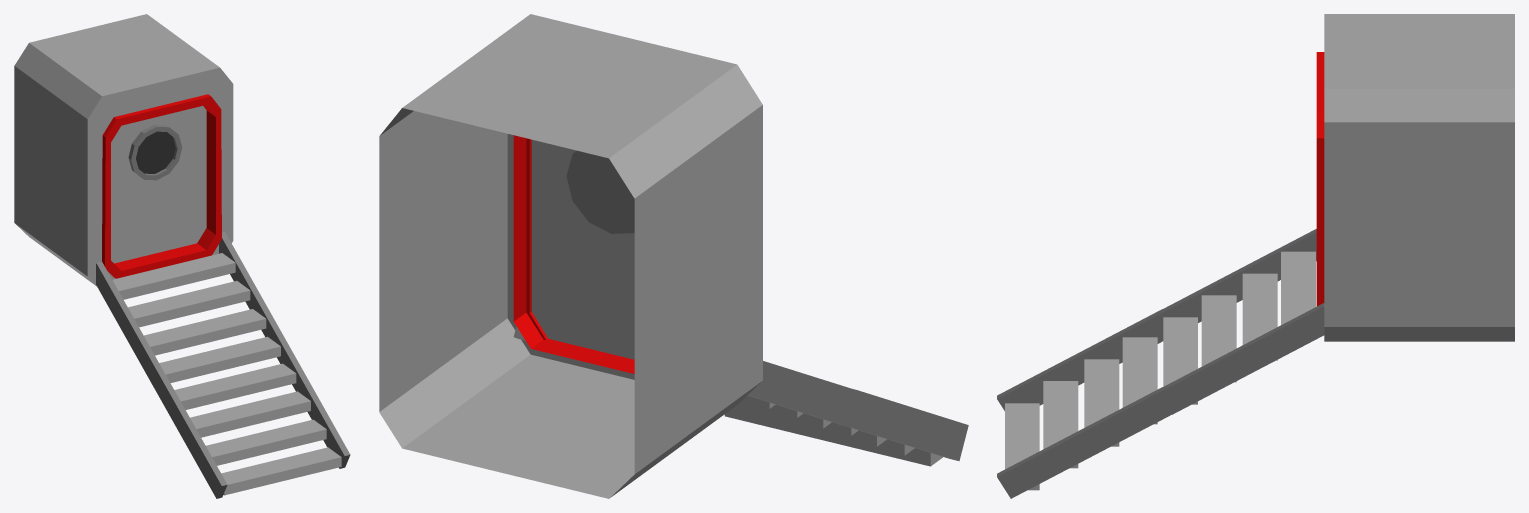
Rendered from Airlock.fbx.
3 views of the same model, side by side, from view 1: azimuth 30°, elevation 25°; view 2: azimuth 150°, elevation 25°; view 3: azimuth 270°, elevation 25° (orthographic). The views are drawn at different scales.
Parts seen in each view (by area): view 1: Airlock:airlock, Airlock:pCube10, polySurface1, Airlock:pCube14, polySurface2, Airlock:airlockWindowGlass, Airlock:airlockWindowFrame; view 2: Airlock:airlock, polySurface1, Airlock:pCube14, polySurface2, Airlock:pCube10, Airlock:airlockWindowFrame; view 3: Airlock:airlock, Airlock:pCube10, Airlock:pCube14, polySurface2.
Part boxes in pixels (x1,y1,x2,y2): Airlock:airlock: (14,14,233,286); Airlock:pCube10: (112,253,341,495); polySurface1: (111,106,206,263); Airlock:pCube14: (96,231,350,498); polySurface2: (102,94,221,278); Airlock:airlockWindowGlass: (136,131,175,173); Airlock:airlockWindowFrame: (128,124,182,180); Airlock:airlock: (379,14,762,498); polySurface1: (531,139,634,359); Airlock:pCube14: (513,326,968,461); polySurface2: (513,135,634,373); Airlock:pCube10: (724,395,942,466); Airlock:airlockWindowFrame: (566,150,634,233); Airlock:airlock: (1324,14,1514,341); Airlock:pCube10: (1005,251,1315,490); Airlock:pCube14: (997,229,1324,498); polySurface2: (1316,52,1324,306).
Bounding box in the file's own units: 288 × 592 × 682.
